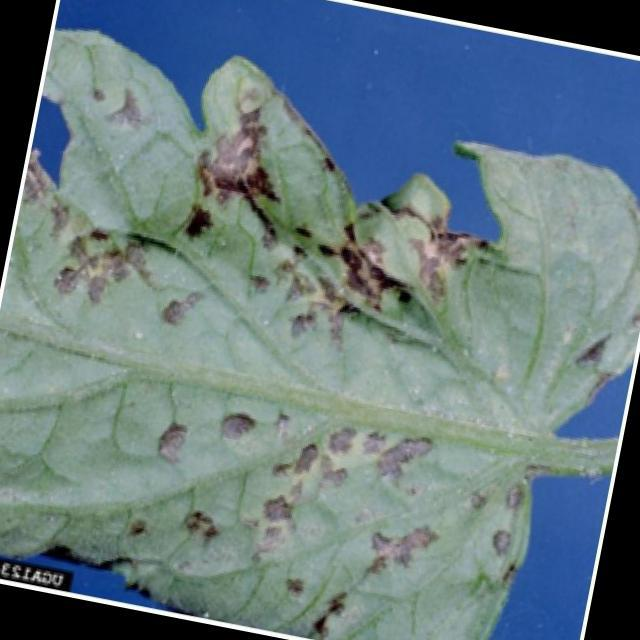Tomato leaf bacterial spot: (1, 17, 640, 640)
